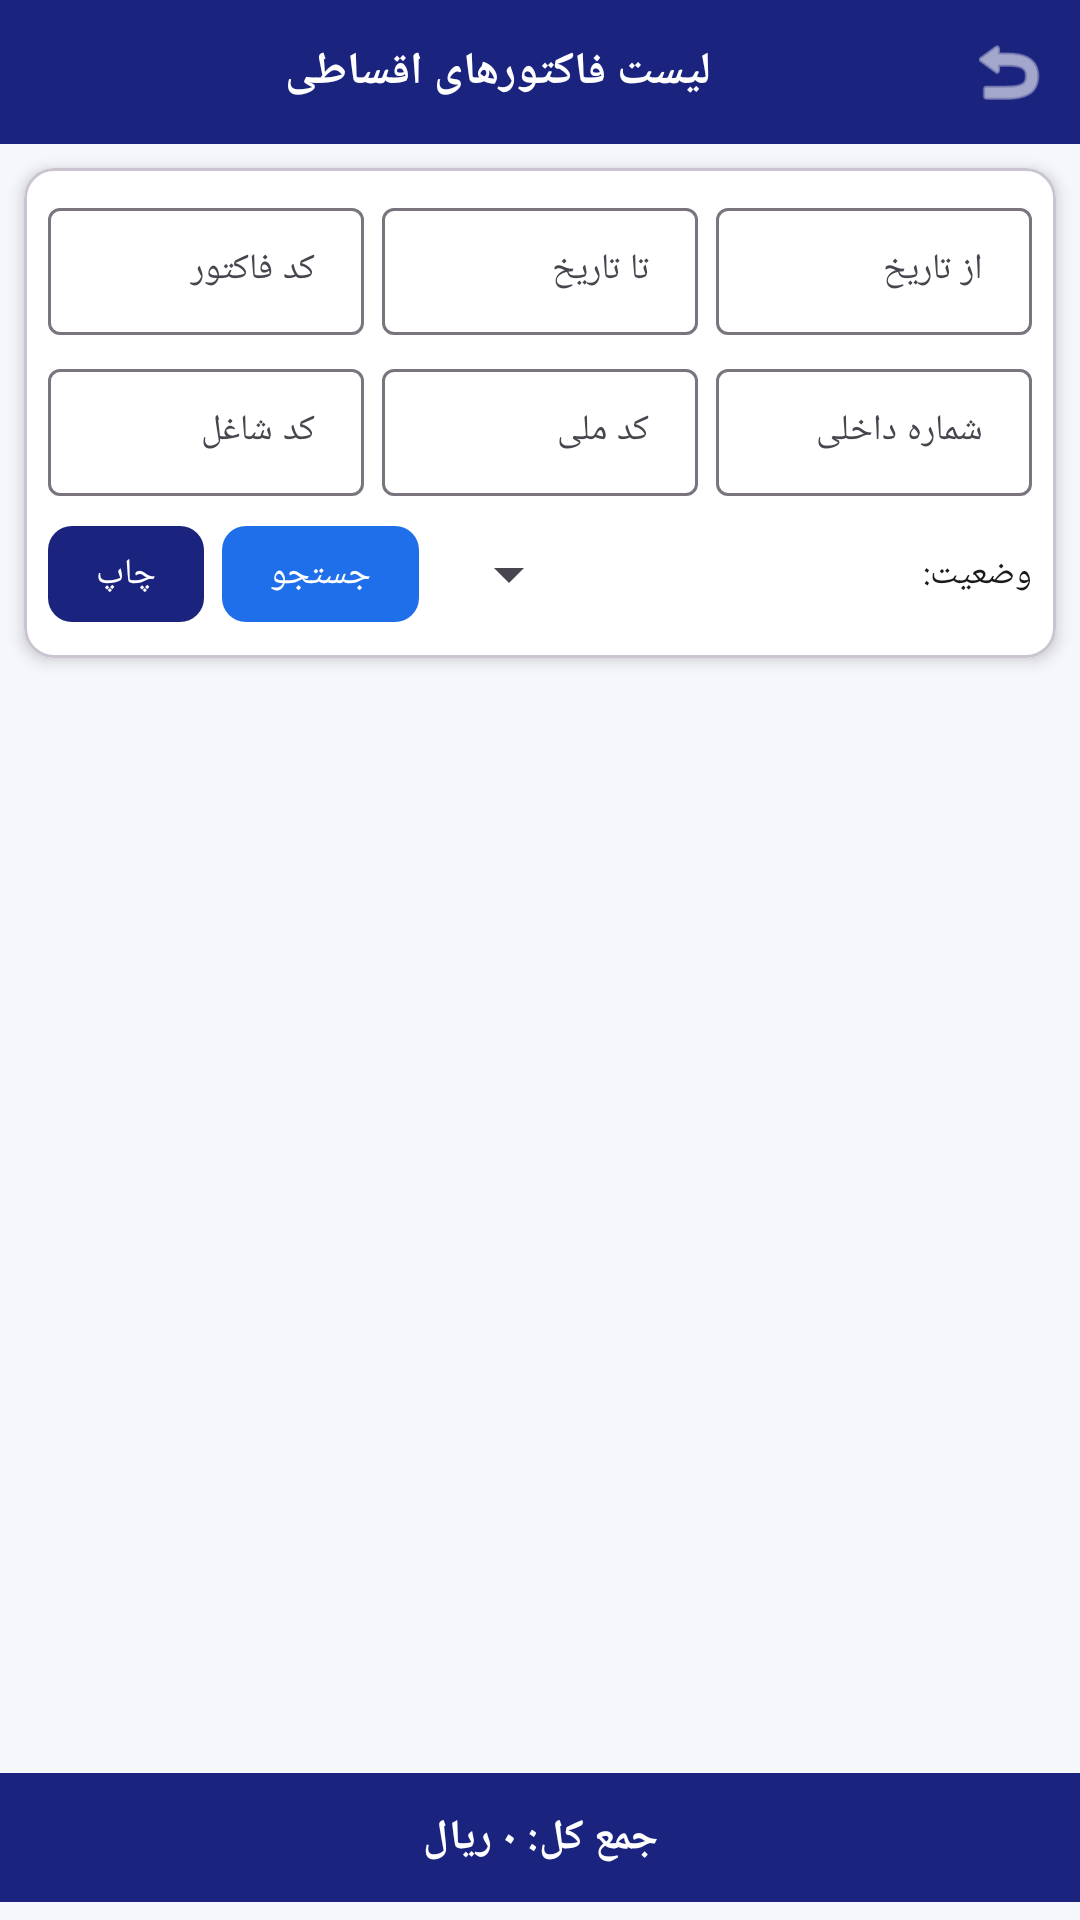

Where icons sit on this 1080 x 1920 app screen, as bbox=[x1, y1, x2, y2]:
بازگشت: bbox=[979, 45, 1039, 100]
